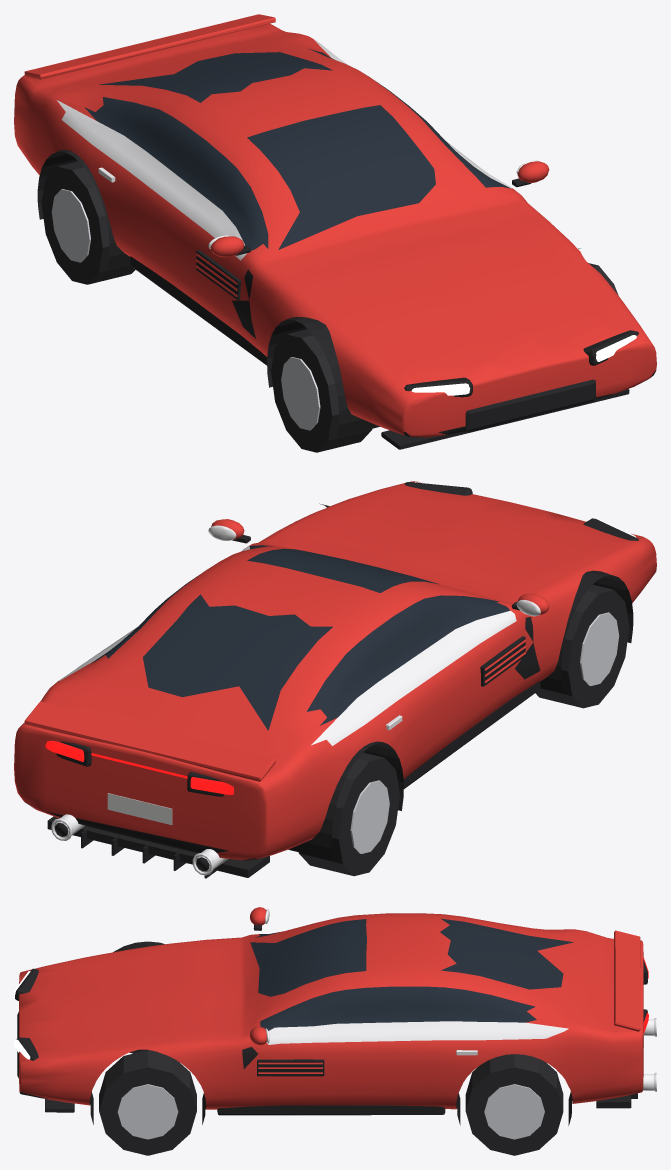
Rendered from aurum_lod.glb.
The picture shows the model from 3 angles, top to bottom: view 1: azimuth 30°, elevation 25°; view 2: azimuth 150°, elevation 25°; view 3: azimuth 270°, elevation 25°; orthographic projection. The views are drawn at different scales.
Parts seen in each view (by area): view 1: body, wheel_fr, wheel_rr; view 2: body, wheel_rr, wheel_fr; view 3: body, wheel_fl, wheel_rl.
Boxes of the visible parts, bbox=[...] form: body: bbox=[14, 14, 656, 449]; wheel_fr: bbox=[271, 329, 372, 452]; wheel_rr: bbox=[41, 161, 135, 284]; body: bbox=[14, 481, 656, 878]; wheel_rr: bbox=[298, 752, 399, 876]; wheel_fr: bbox=[535, 584, 629, 708]; body: bbox=[14, 907, 656, 1125]; wheel_fl: bbox=[99, 1050, 196, 1155]; wheel_rl: bbox=[465, 1054, 563, 1155].
Size of the model in its own units: 2.29 by 1.27 by 4.74.
